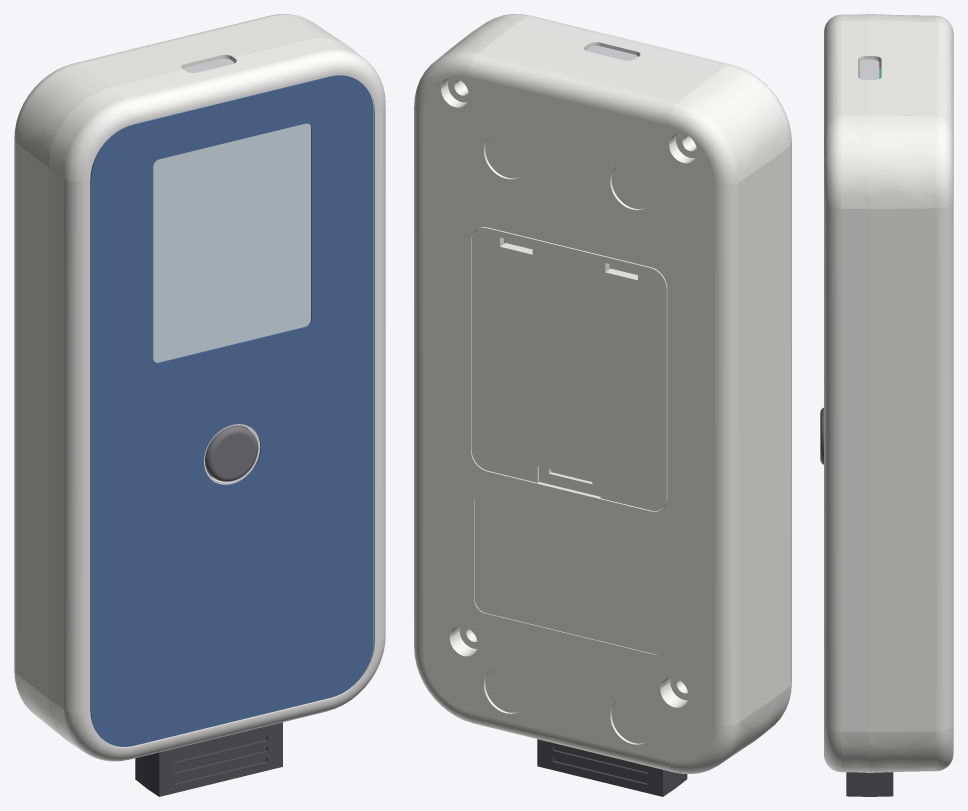
The model's file is .HemoSure_Assembly.step.glb.
3 views of the same model, side by side, from view 1: azimuth 30°, elevation 25°; view 2: azimuth 150°, elevation 25°; view 3: azimuth 270°, elevation 25° (orthographic). The views are drawn at different scales.
Visible parts, largest first — view 1: o1.8, o1.2, o1.7, o1.1, o1.6, o1.4; view 2: o1.1, o1.3, o1.2, o1.6; view 3: o1.1, o1.2, o1.6, o1.11.
Part boxes in pixels (x1,y1,x2,y2): o1.8: (90, 75, 373, 746); o1.2: (48, 38, 385, 761); o1.7: (153, 123, 310, 362); o1.1: (14, 14, 346, 737); o1.6: (135, 722, 282, 796); o1.4: (205, 425, 257, 481); o1.1: (414, 25, 775, 773); o1.3: (471, 227, 667, 510); o1.2: (472, 14, 791, 736); o1.6: (537, 739, 687, 796); o1.1: (870, 14, 953, 772); o1.2: (824, 14, 869, 772); o1.6: (846, 772, 893, 796); o1.11: (860, 59, 879, 79).
Size of the model in its own units: 0.062 by 0.131 by 0.0226.
